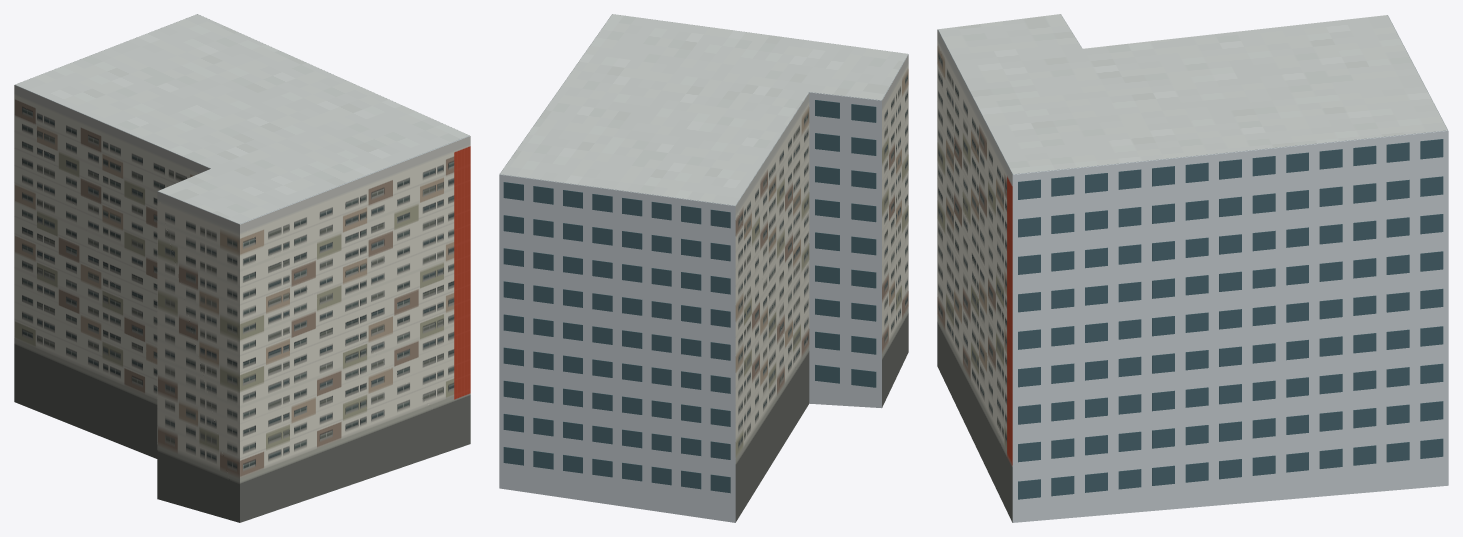
The model's file is intact.glb.
3 renders of one model, left to right at view 1: azimuth 30°, elevation 25°; view 2: azimuth 150°, elevation 25°; view 3: azimuth 270°, elevation 25°, orthographic. The views are drawn at different scales.
Parts seen in each view (by area): view 1: SM_nuri-east_Intact_00; view 2: SM_nuri-east_Intact_00, SM_nuri-east_Intact_01; view 3: SM_nuri-east_Intact_00, SM_nuri-east_Intact_01.
Part boxes in pixels (x1,y1,x2,y2): SM_nuri-east_Intact_00: (14, 14, 470, 522); SM_nuri-east_Intact_00: (499, 14, 908, 522); SM_nuri-east_Intact_01: (503, 100, 876, 493); SM_nuri-east_Intact_00: (937, 14, 1448, 522); SM_nuri-east_Intact_01: (1018, 139, 1443, 499).
Bounding box in the file's own units: 1.64 × 1.7 × 2.2.
Materials: 7 (4 with a texture image).
